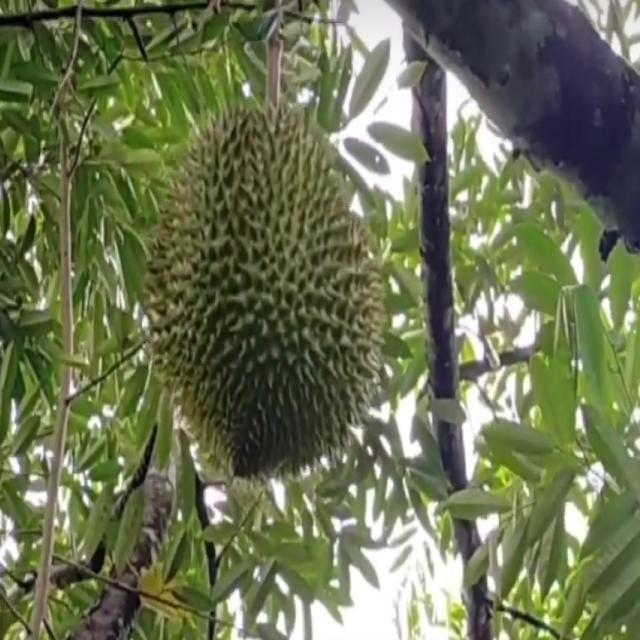immature: (141, 105, 387, 488)
